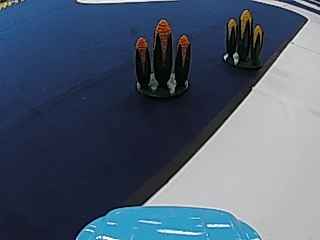corn: (131, 17, 195, 99), (221, 6, 265, 68)
